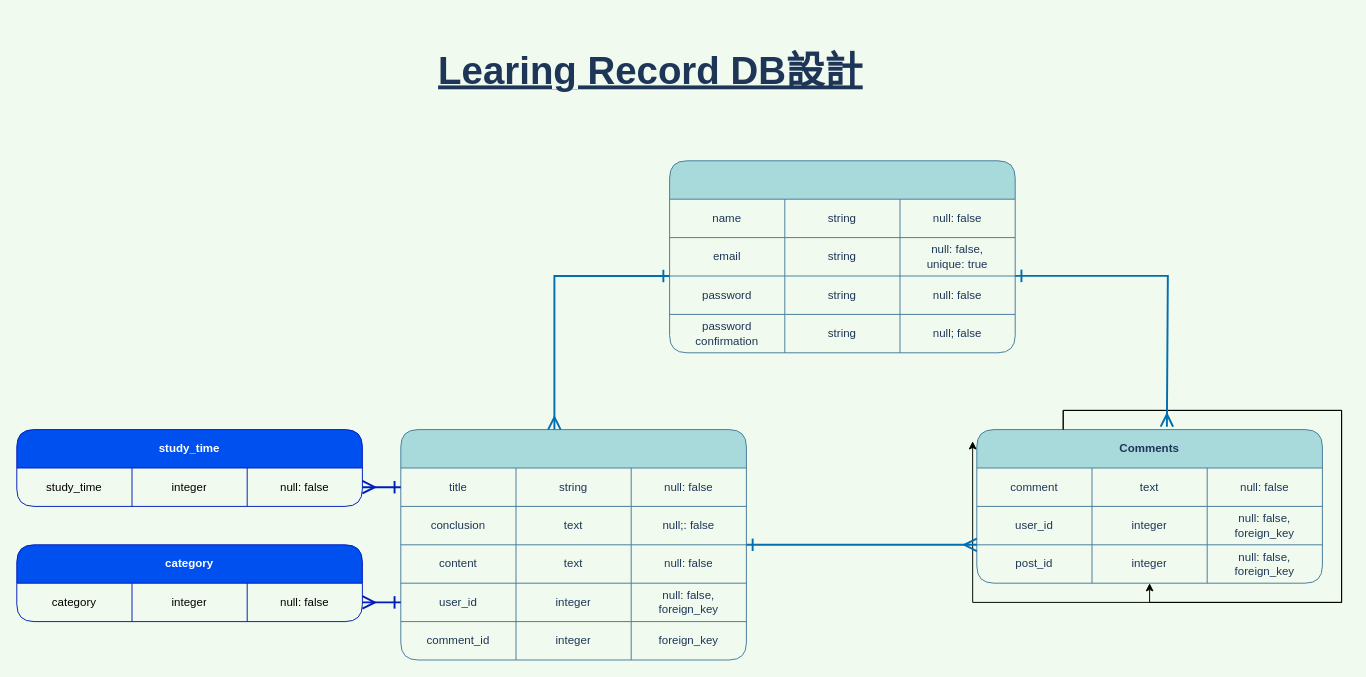
The diagram is 1366 pixels wide and 677 high, and some of its shapes have lost their labels. Each missing label, with the box of its shape:
Posts: (400, 429, 746, 660)
Users: (669, 160, 1015, 353)
